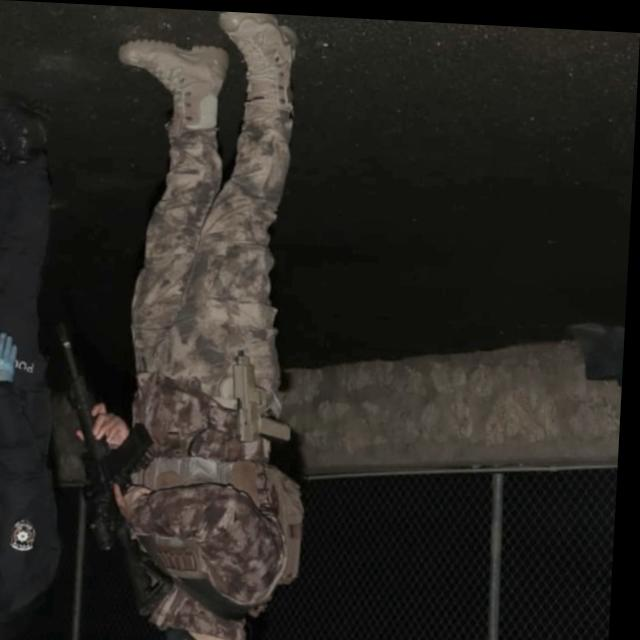poh_personel: (85, 5, 331, 640)
